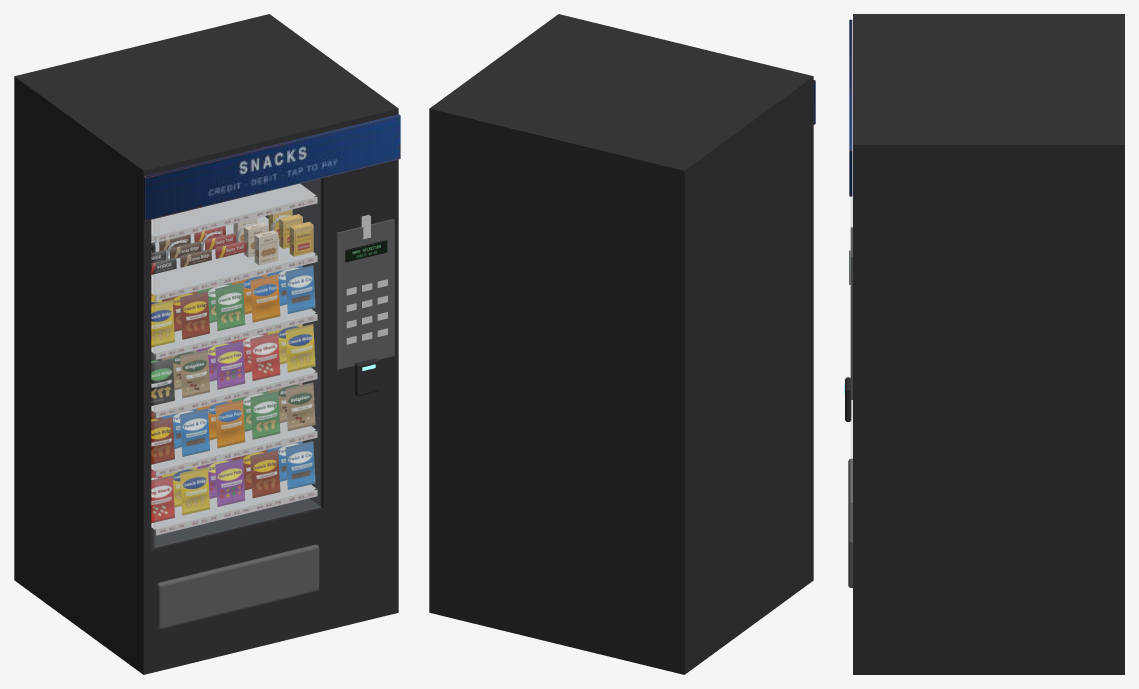
Rendered from hotel-snack-vending-mobile.glb.
3 views of the same model, side by side, from view 1: azimuth 30°, elevation 25°; view 2: azimuth 150°, elevation 25°; view 3: azimuth 270°, elevation 25° (orthographic). The views are drawn at different scales.
Visible parts, largest first — view 1: black_plastic, vend_glass, products-1k_0.0, charcoal, steel, vend_lcd; view 2: black_plastic; view 3: black_plastic, charcoal, products-1k_0.0.
Part boxes in pixels (box(x1,y1,x2,y2)): black_plastic: box(14, 14, 398, 674); vend_glass: box(154, 179, 321, 547); products-1k_0.0: box(144, 114, 400, 535); charcoal: box(156, 219, 394, 629); steel: box(151, 183, 387, 529); vend_lcd: box(345, 240, 387, 262); black_plastic: box(429, 14, 813, 674); black_plastic: box(845, 14, 1124, 674); charcoal: box(848, 227, 852, 587); products-1k_0.0: box(849, 19, 852, 196).
Size of the model in its own units: 0.98 by 1.85 by 0.888.
9 materials, 2 textured.
